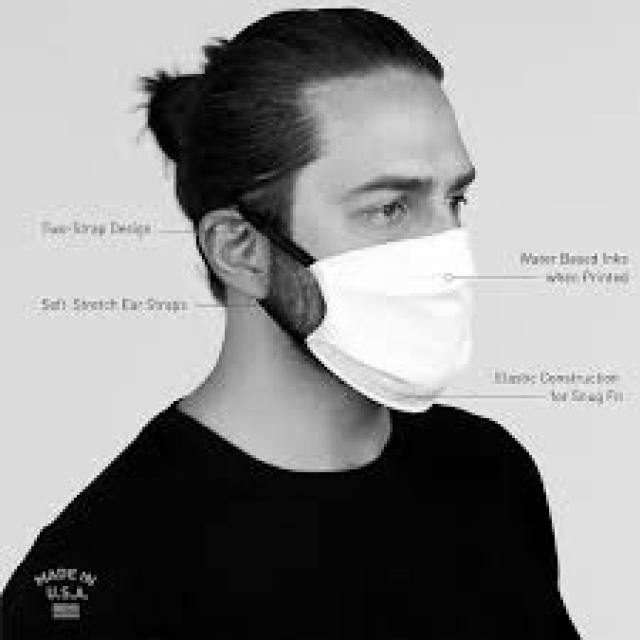without_mask: (239, 202, 481, 412)
